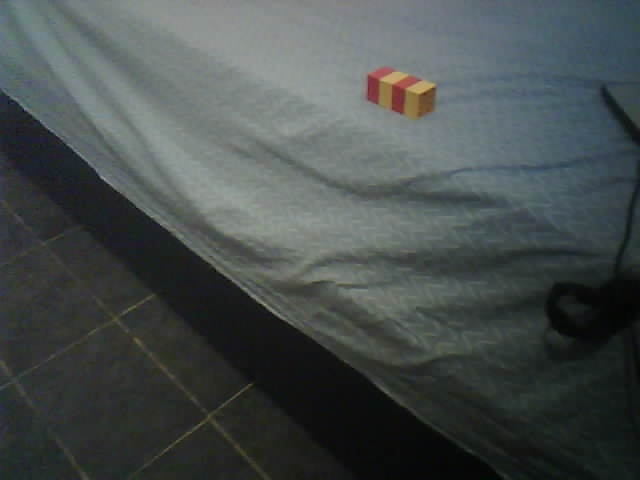lego: (365, 66, 437, 120)
